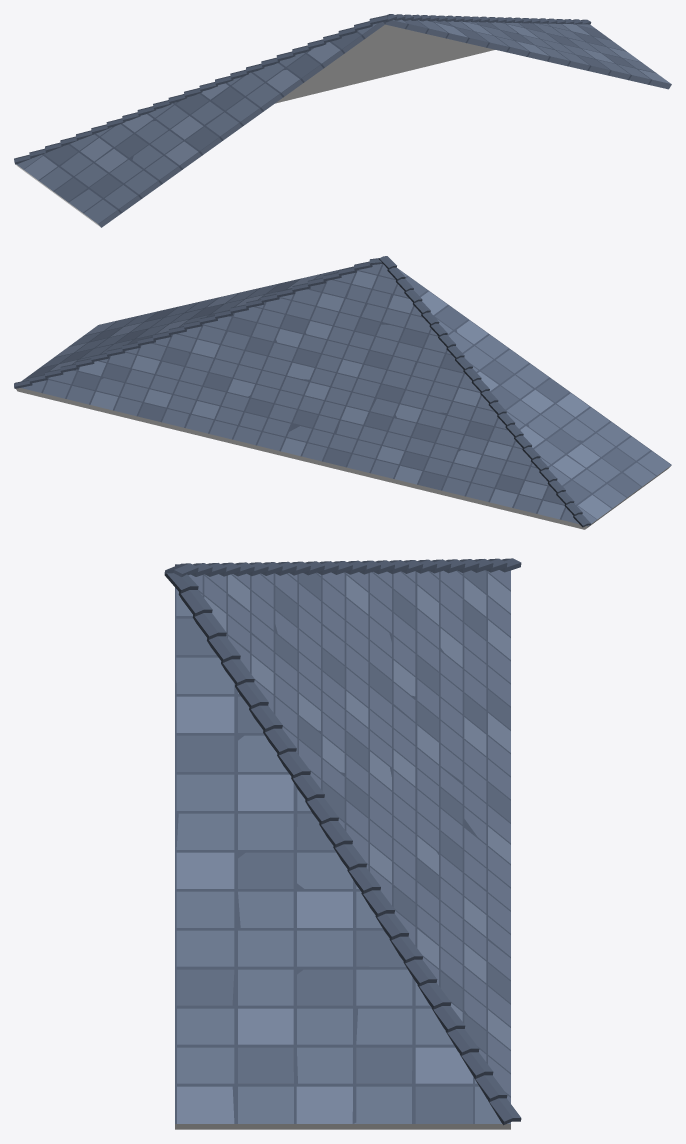
File: Roof5_C7_02.fbx
The picture shows the model from 3 angles, top to bottom: view 1: azimuth 30°, elevation 25°; view 2: azimuth 150°, elevation 25°; view 3: azimuth 270°, elevation 25°; orthographic projection. The views are drawn at different scales.
Visible parts, largest first — view 1: Roof5_C7_02; view 2: Roof5_C7_02; view 3: Roof5_C7_02.
Part boxes in pixels (x1,y1,x2,y2): Roof5_C7_02: [14, 14, 671, 227]; Roof5_C7_02: [14, 256, 671, 529]; Roof5_C7_02: [164, 558, 521, 1129].
Size of the model in its own units: 1111 by 262 by 298.
